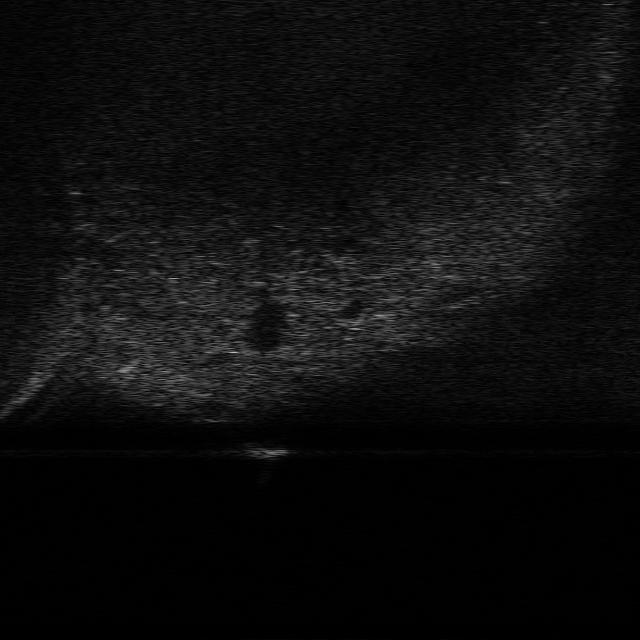cube: (225, 442, 294, 462)
